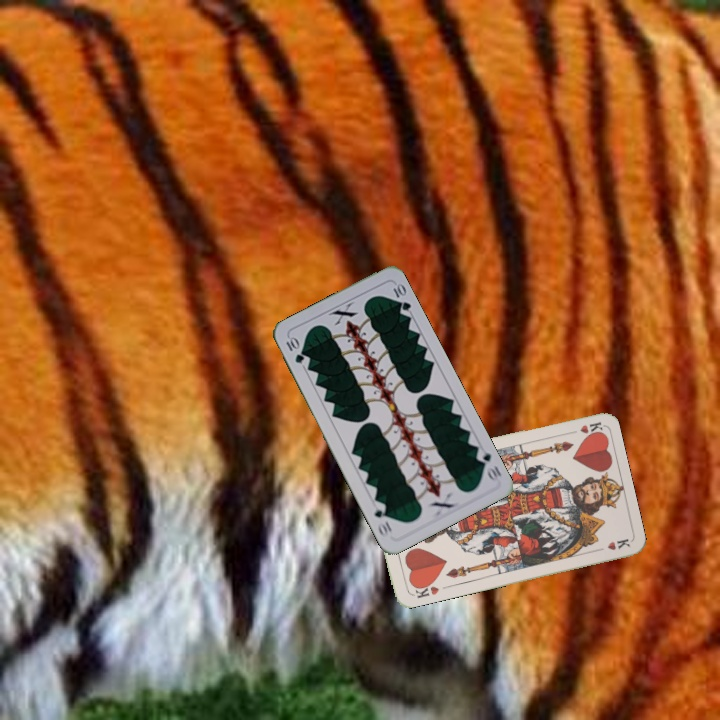G10: (472, 444, 504, 483), (282, 333, 307, 366)
HK: (563, 418, 604, 438), (407, 578, 442, 600)
